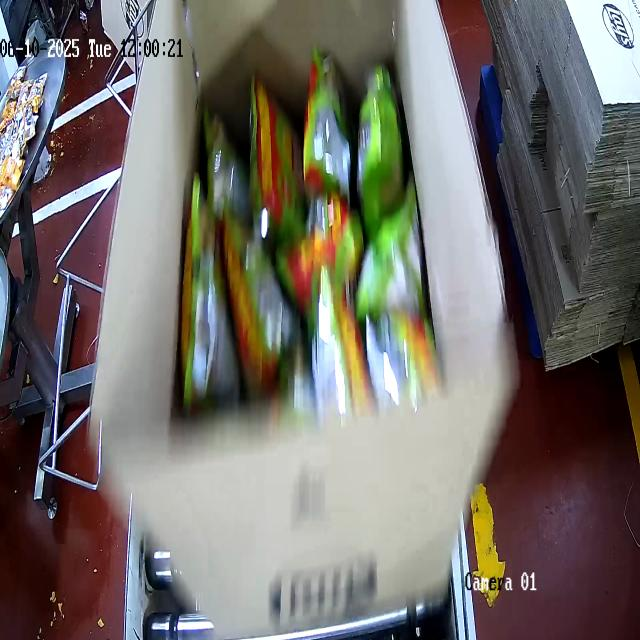YOGURT_HERB: (160, 46, 425, 412)
